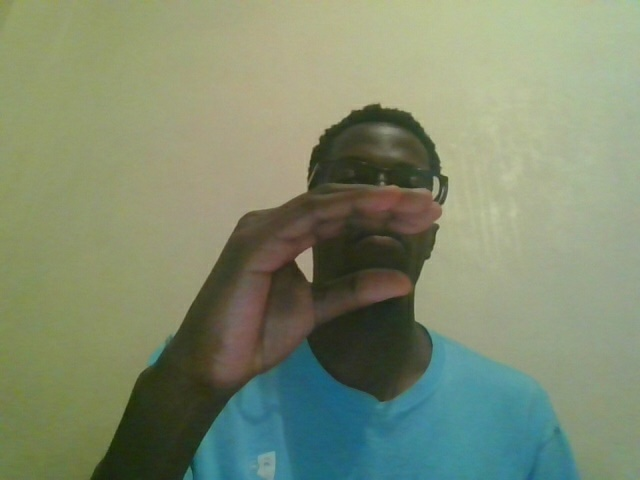No: (128, 178, 472, 401)
